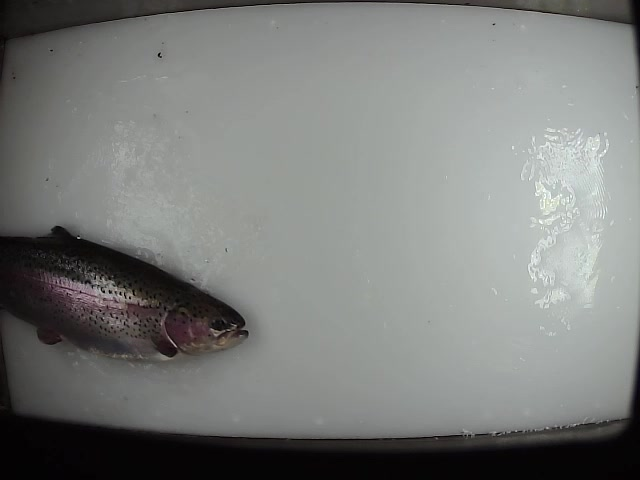fish: (1, 225, 250, 364)
